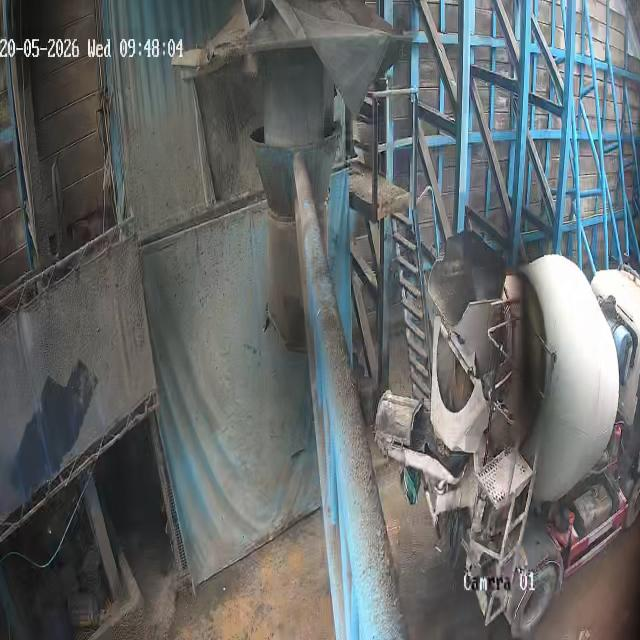cement_mixer_truck: (375, 232, 639, 639)
swing_chute: (251, 128, 345, 354)
